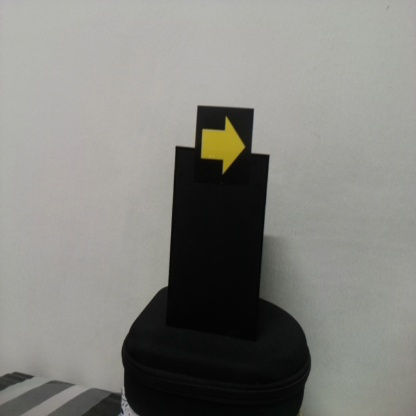id_3: (198, 108, 251, 183)
